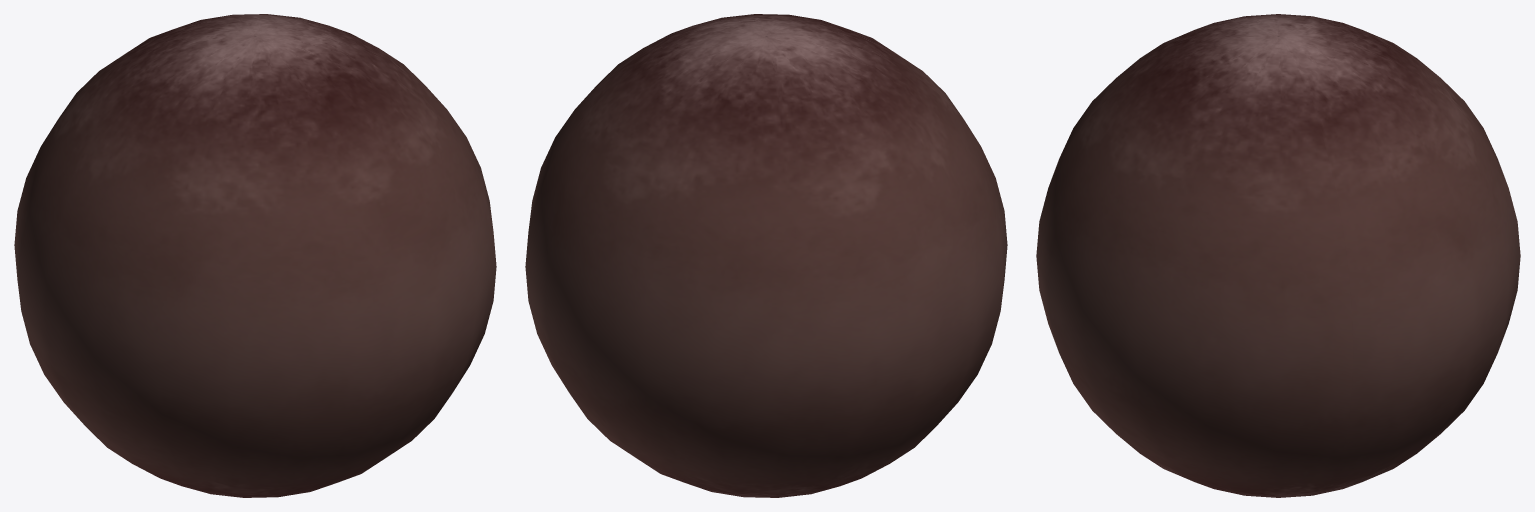
The model's file is gambit_sketchfab.fbx.
The picture shows the model from 3 angles, left to right: view 1: azimuth 30°, elevation 25°; view 2: azimuth 150°, elevation 25°; view 3: azimuth 270°, elevation 25°; orthographic projection.
Parts seen in each view (by area): view 1: pSphere5; view 2: pSphere5; view 3: pSphere5.
Part boxes in pixels (x1,y1,x2,y2): pSphere5: [14, 14, 496, 497]; pSphere5: [525, 14, 1007, 497]; pSphere5: [1036, 14, 1520, 497].
Size of the model in its own units: 156 by 156 by 156.
